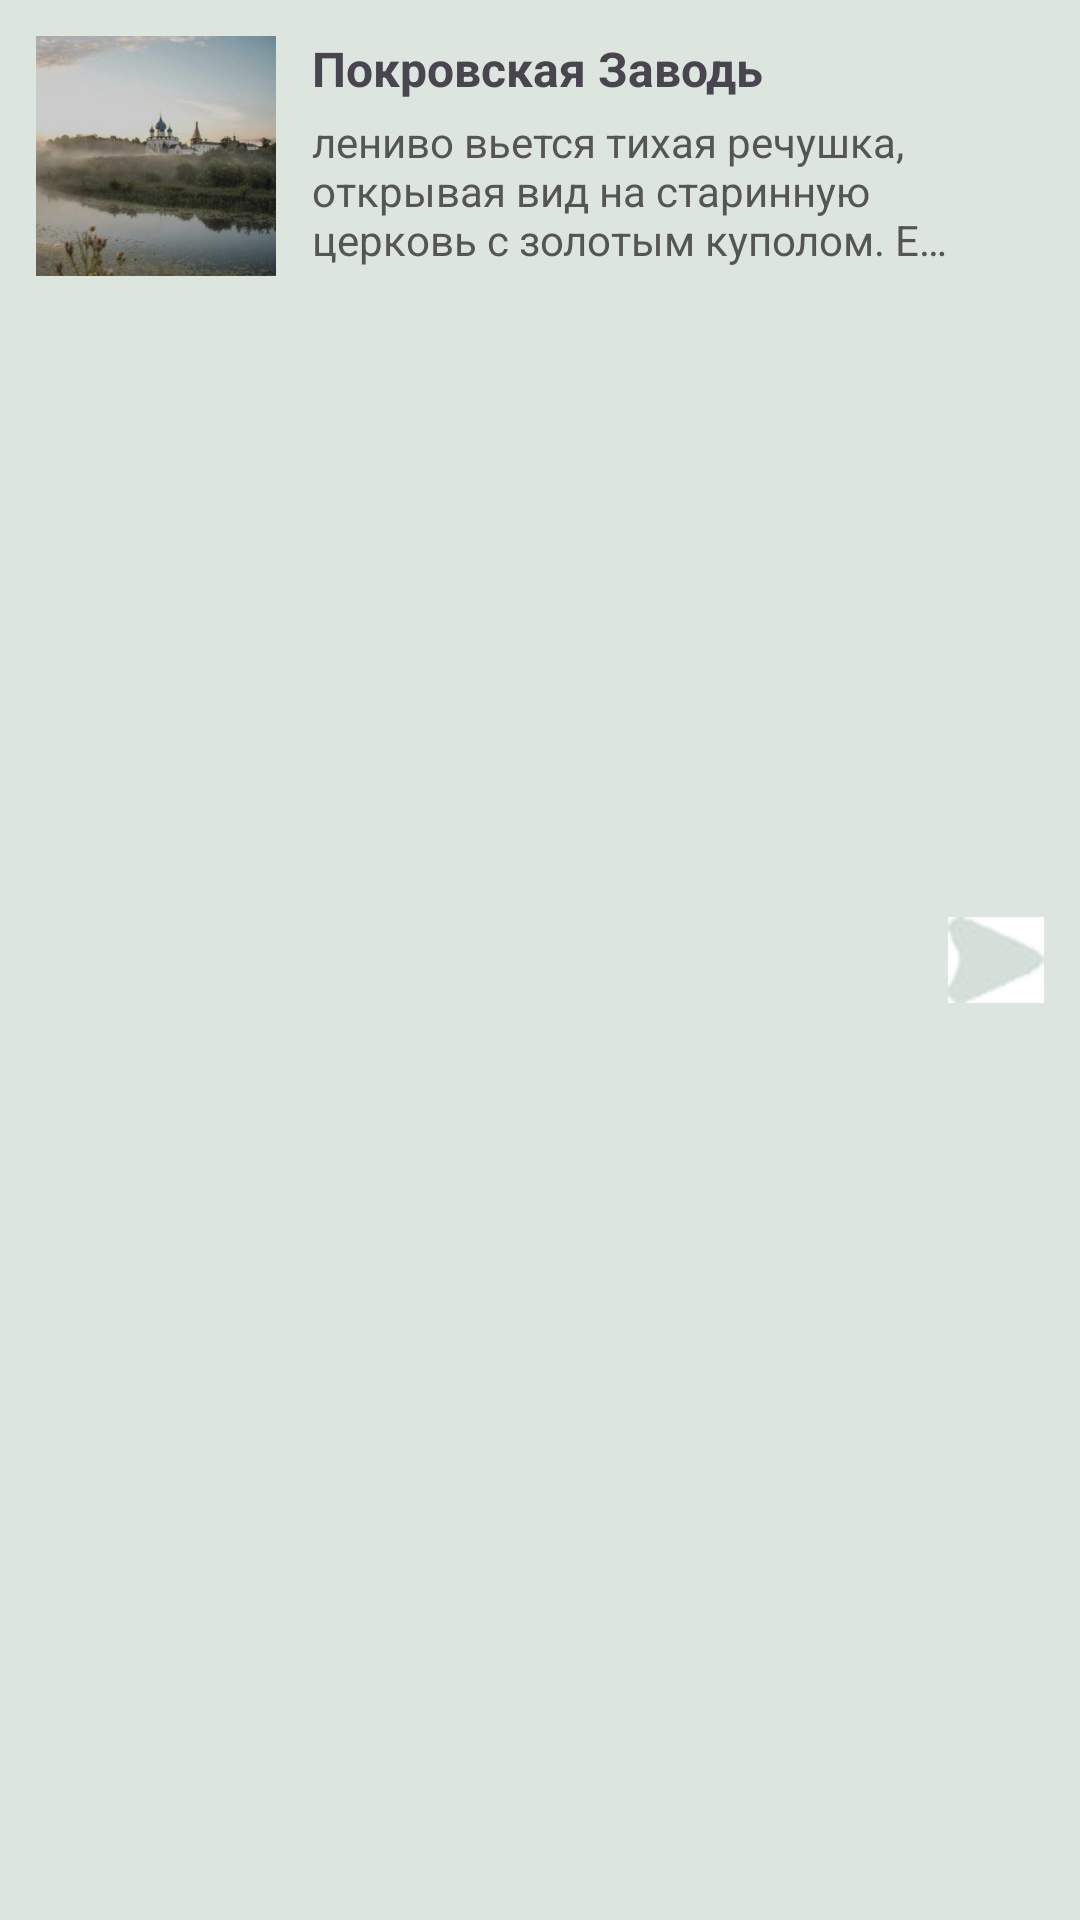

Icons on this 1080×1920 Android screen, each with its box as box(x1, y1, x2, y2):
play: box(948, 917, 1044, 1003)
